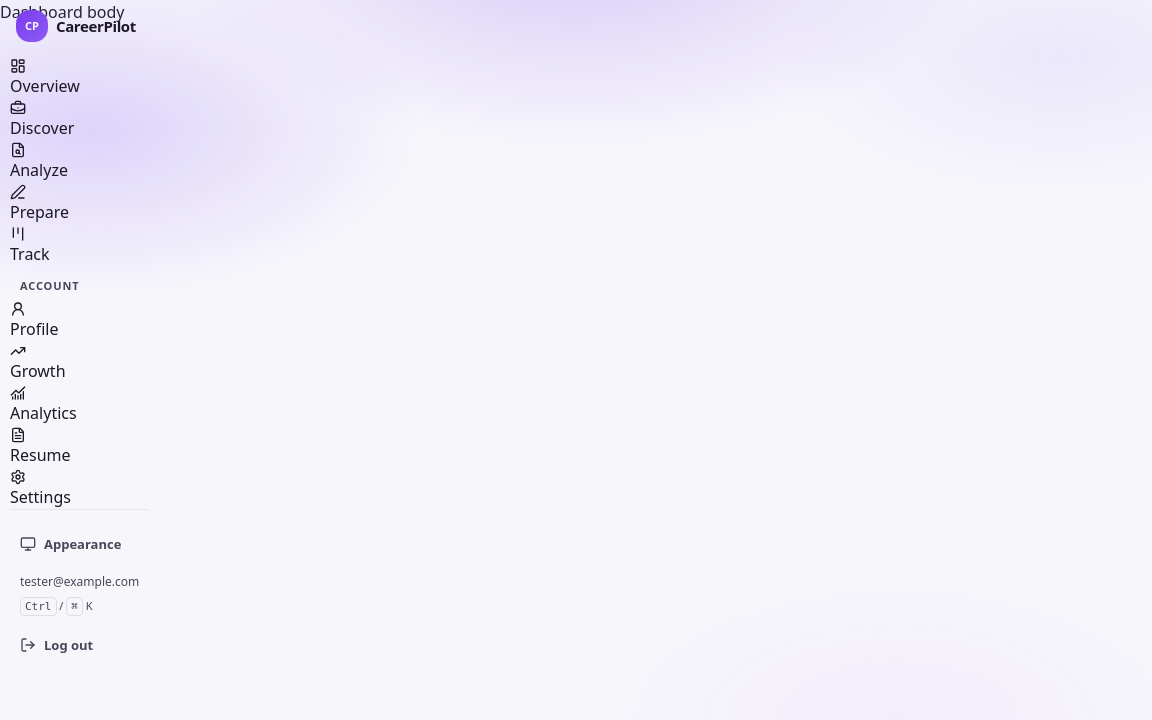
AppShell › filters command palette items and navigates with Enter
Type keys "{Control>}k{/Control}"
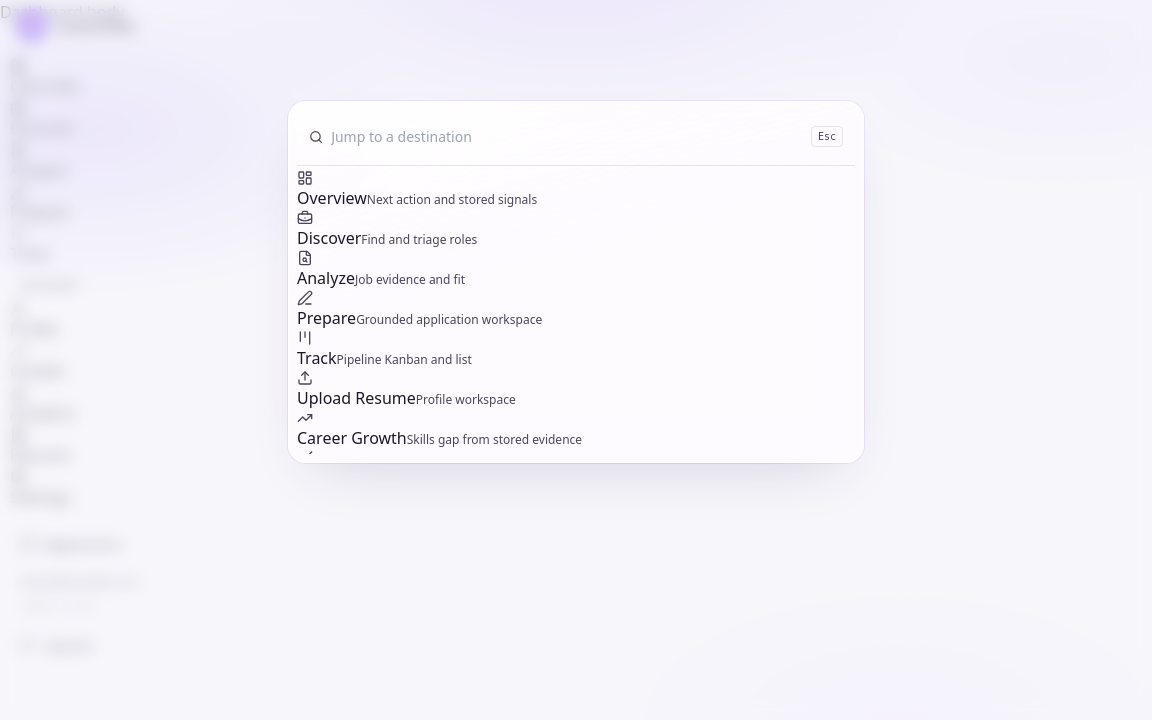
Type "set" into the field named "Filter commands" at (567, 137), box [331,117,803,157]
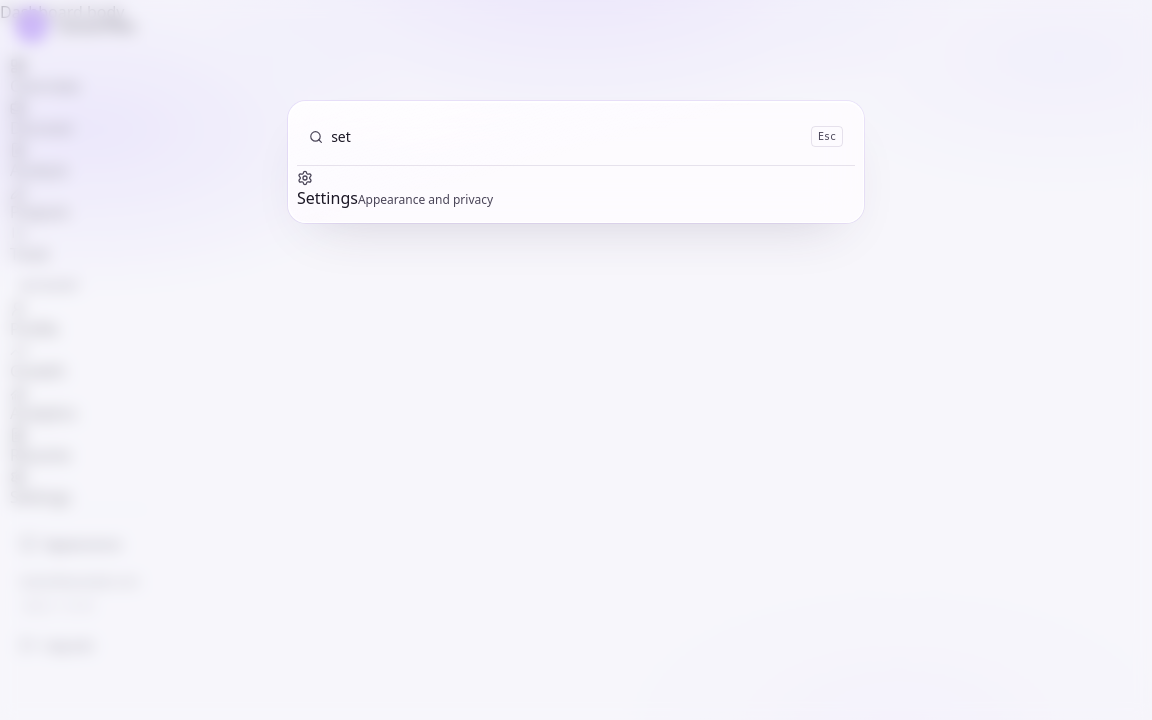
Now the option "Settings" is shown, box [297,170,493,210]
Press Enter
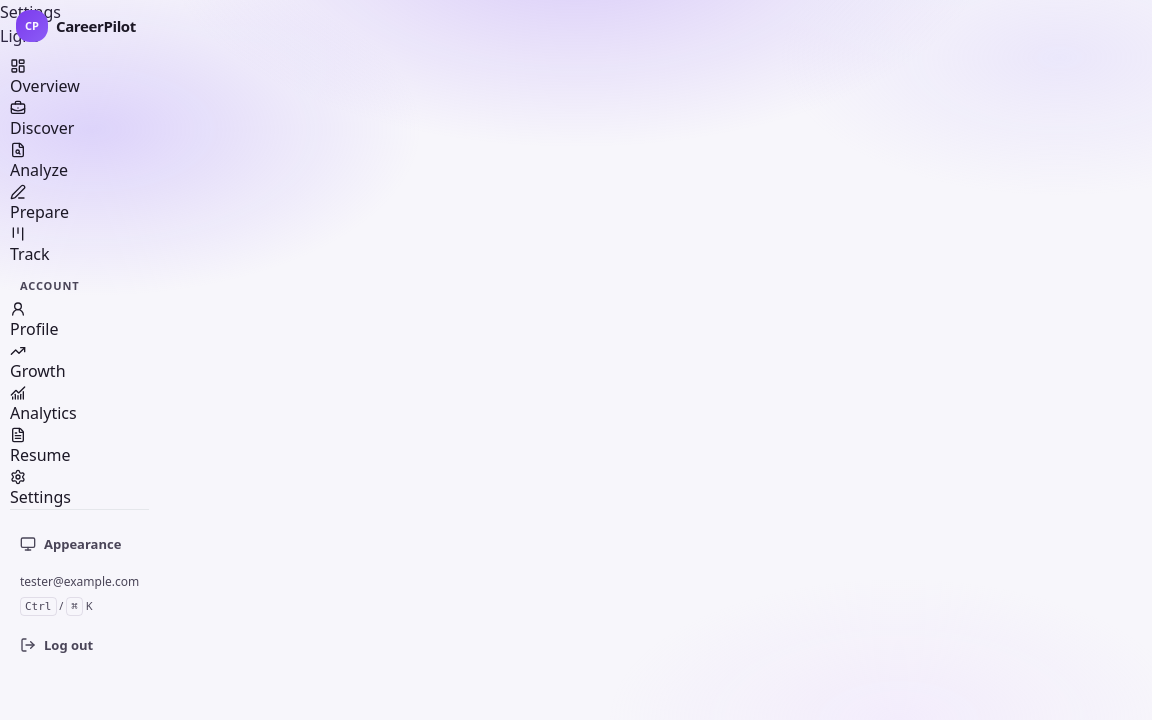
Now the element with test id "settings-page" is shown, box [0,1,61,48]
Now the dialog with test id "command-palette" is gone
